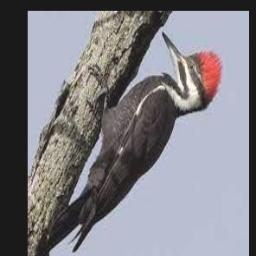Woodpecker: (29, 32, 222, 256)
